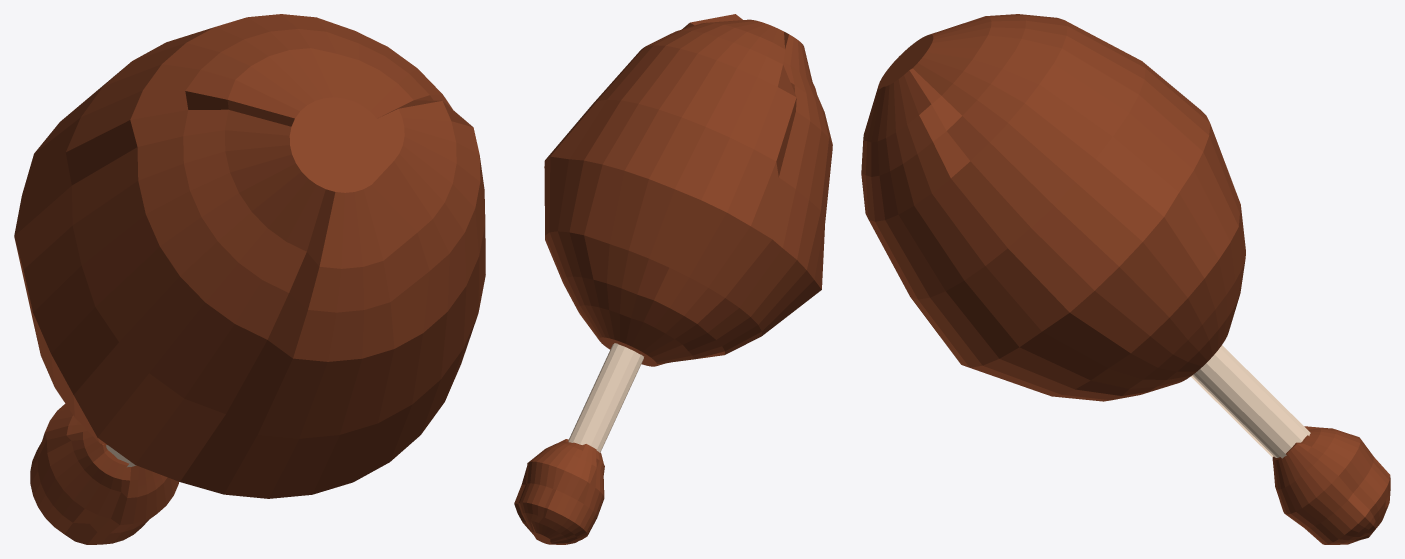
The model's file is adobo 3rd stage plating.fbx.
3 views of the same model, side by side, from view 1: azimuth 30°, elevation 25°; view 2: azimuth 150°, elevation 25°; view 3: azimuth 270°, elevation 25° (orthographic). The views are drawn at different scales.
Visible parts, largest first — view 1: Cylinder.002; view 2: Cylinder.002; view 3: Cylinder.002.
Part boxes in pixels (box(x1,y1,x2,y2)): Cylinder.002: box(14, 14, 485, 544); Cylinder.002: box(514, 14, 832, 544); Cylinder.002: box(861, 14, 1390, 544).
Bounding box in the file's own units: 20.24 × 31.71 × 30.61.
